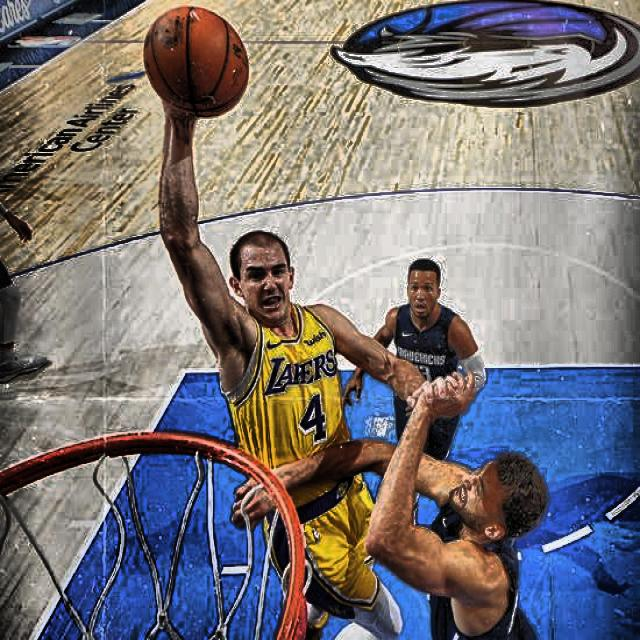rim: (144, 5, 250, 120)
